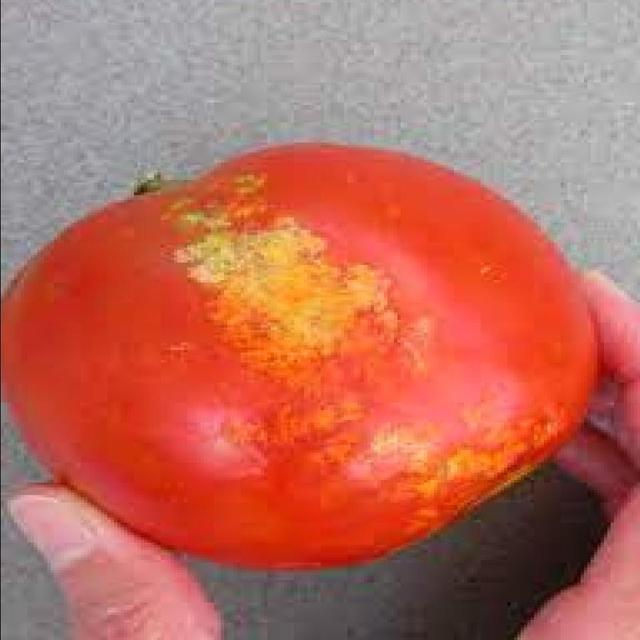Spotted wilt Virus Fruit: (0, 107, 11, 416)
